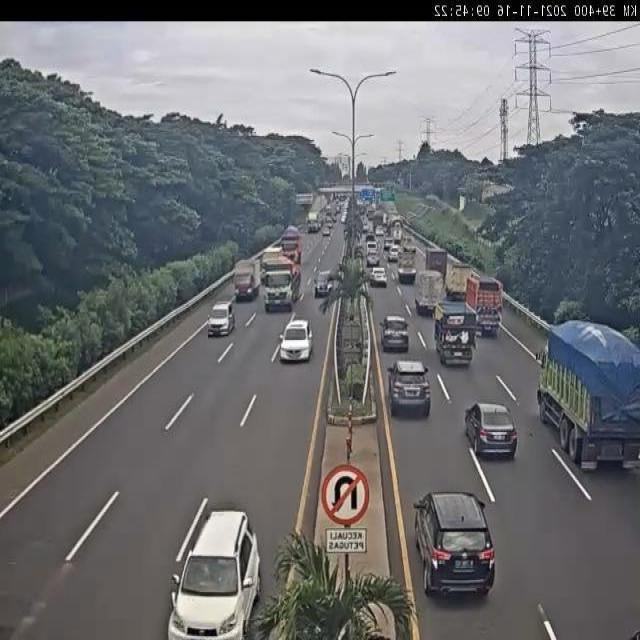Car: (168, 512, 259, 639), (413, 493, 494, 596), (464, 404, 518, 458), (388, 358, 432, 416), (279, 320, 313, 363), (380, 316, 410, 352), (208, 303, 234, 336), (315, 270, 332, 297), (368, 266, 388, 288)
Truck: (534, 321, 640, 468), (434, 303, 477, 362), (466, 274, 502, 336), (262, 258, 301, 312), (414, 269, 445, 315), (233, 257, 260, 298)
